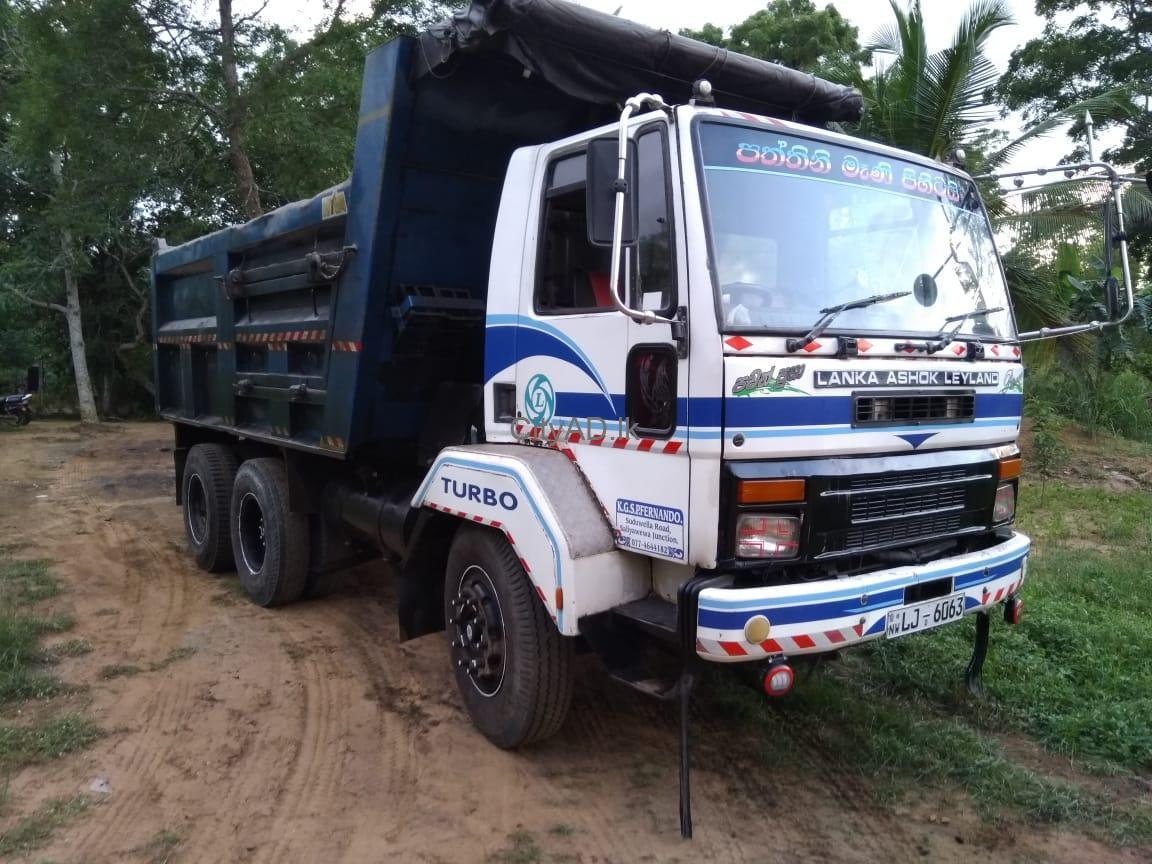truck: (149, 2, 1030, 749)
